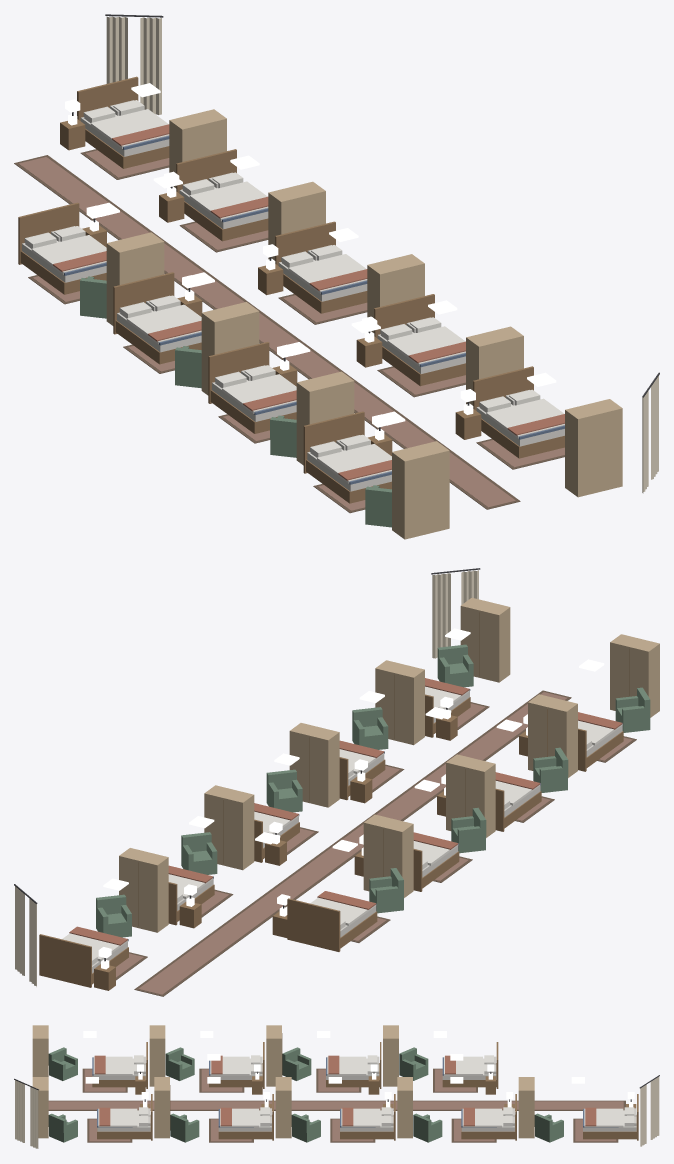
File: fine-s3.glb
The picture shows the model from 3 angles, top to bottom: view 1: azimuth 30°, elevation 25°; view 2: azimuth 150°, elevation 25°; view 3: azimuth 270°, elevation 25°; orthographic projection. The views are drawn at different scales.
Visible parts, largest first — view 1: soft-s3, dresser.021, dresser.026, bed-frame.022, bed-frame.024, bed-frame.023, bed-frame.026, bed-frame.025, bed-frame.021, bed-frame.018, bed-frame.020, bed-frame.019 (+16 smaller); view 2: soft-s3, dresser.023, dresser.026, dresser.024, dresser.022, dresser.025, dresser.018, dresser.019, dresser.020, dresser.021, bed-frame.018, bed-frame.022 (+16 smaller); view 3: soft-s3, dresser.022, dresser.024, dresser.025, dresser.023, dresser.018, dresser.019, dresser.020, bed-frame.022, bed-frame.024, bed-frame.026, bed-frame.023 (+20 smaller).
Part boxes in pixels (<box>): soft-s3: <box>14,14,659,513</box>; dresser.021: <box>392,441,449,539</box>; dresser.026: <box>565,399,622,497</box>; bed-frame.022: <box>77,76,169,168</box>; bed-frame.024: <box>275,221,367,313</box>; bed-frame.023: <box>176,149,268,241</box>; bed-frame.026: <box>473,366,564,458</box>; bed-frame.025: <box>374,294,465,386</box>; bed-frame.021: <box>303,411,391,503</box>; bed-frame.018: <box>18,202,106,294</box>; bed-frame.020: <box>208,342,296,433</box>; bed-frame.019: <box>113,272,201,364</box>; soft-s3: <box>14,568,636,996</box>; dresser.023: <box>204,785,254,870</box>; dresser.026: <box>460,597,510,682</box>; dresser.024: <box>289,723,339,807</box>; dresser.022: <box>119,848,168,932</box>; dresser.025: <box>375,660,424,745</box>; dresser.018: <box>363,814,413,897</box>; dresser.019: <box>446,754,495,837</box>; dresser.020: <box>528,694,577,777</box>; dresser.021: <box>610,634,659,717</box>; bed-frame.018: <box>287,898,377,951</box>; bed-frame.022: <box>39,934,128,987</box>; soft-s3: <box>14,1055,659,1148</box>; dresser.022: <box>518,1077,534,1138</box>; dresser.024: <box>275,1077,291,1138</box>; dresser.025: <box>154,1077,170,1138</box>; dresser.023: <box>397,1077,412,1138</box>; dresser.018: <box>383,1025,398,1086</box>; dresser.019: <box>266,1025,282,1086</box>; dresser.020: <box>149,1025,165,1086</box>; bed-frame.022: <box>583,1094,638,1140</box>; bed-frame.024: <box>340,1094,395,1140</box>; bed-frame.026: <box>97,1094,152,1140</box>; bed-frame.023: <box>461,1094,516,1140</box>.
Bounding box in the file's own units: 7.35 × 2.56 × 24.41.
